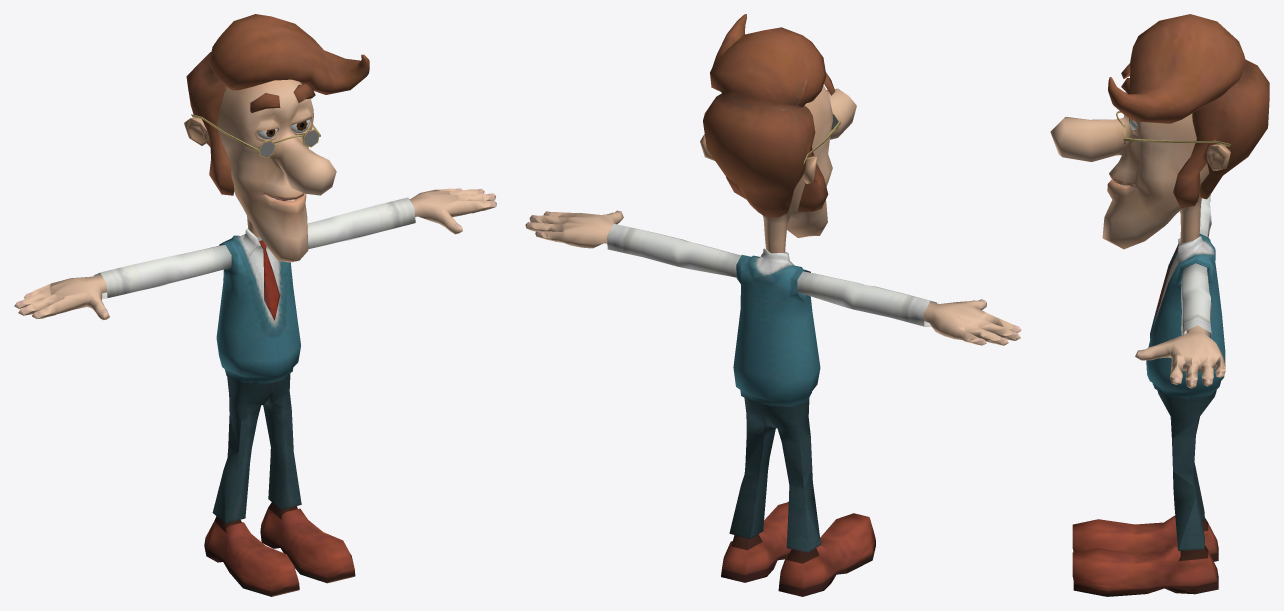
The model's file is hugh.obj.
3 views of the same model, side by side, from view 1: azimuth 30°, elevation 25°; view 2: azimuth 150°, elevation 25°; view 3: azimuth 270°, elevation 25° (orthographic). The views are drawn at different scales.
Visible parts, largest first — view 1: Material_#102; view 2: Material_#102; view 3: Material_#102.
Part boxes in pixels (left/top/right/bottom): Material_#102: left=14, top=14, right=496, bottom=596; Material_#102: left=525, top=14, right=1021, bottom=596; Material_#102: left=1050, top=14, right=1269, bottom=596.
Bounding box in the file's own units: 19.66 × 20.73 × 7.46.
Materials: 2 (2 with a texture image).
